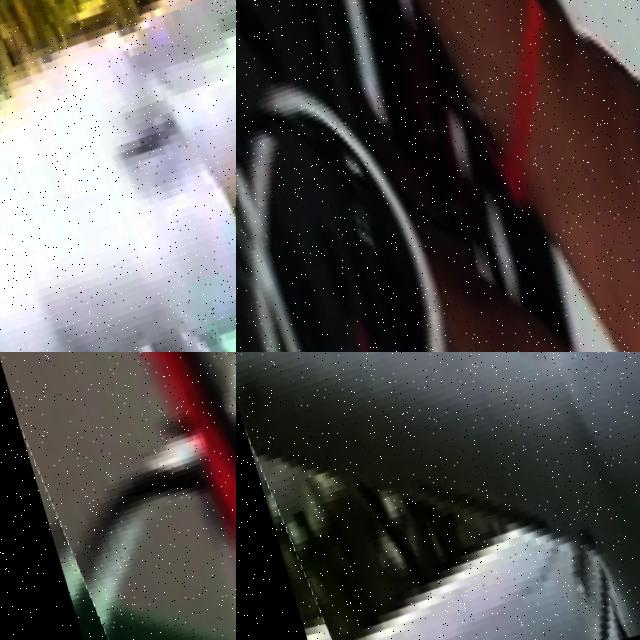drone: (236, 0, 640, 352), (236, 352, 640, 640), (0, 0, 236, 352), (0, 352, 236, 640)
